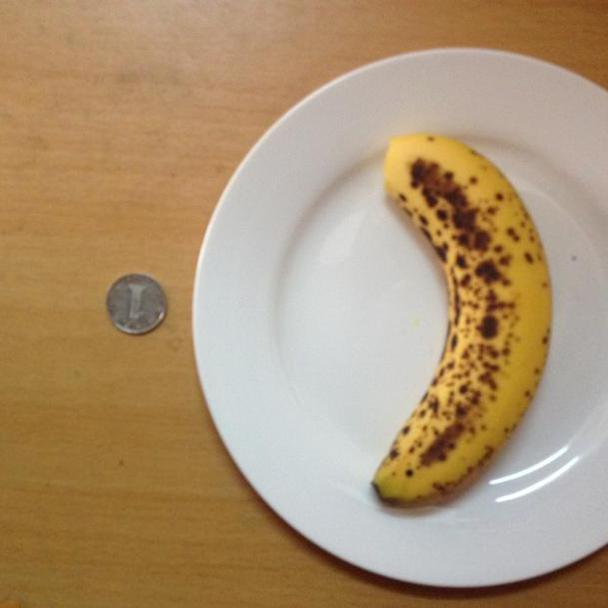banana: (365, 134, 566, 510)
